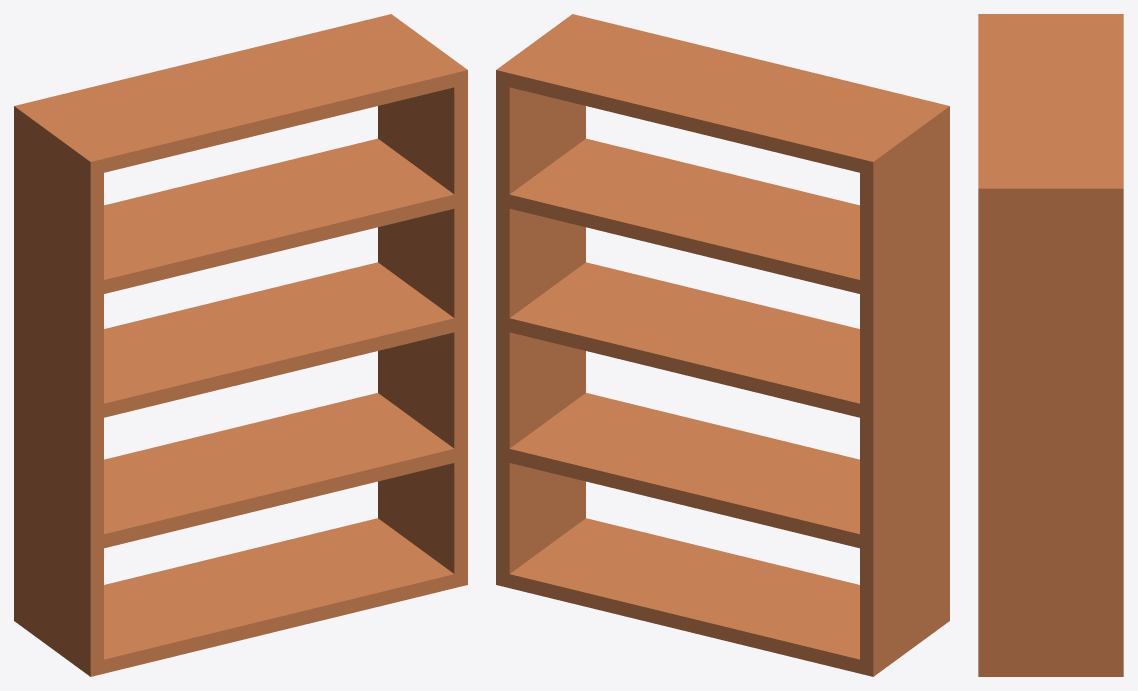
The model's file is SHELF.fbx.
The picture shows the model from 3 angles, left to right: view 1: azimuth 30°, elevation 25°; view 2: azimuth 150°, elevation 25°; view 3: azimuth 270°, elevation 25°; orthographic projection. The views are drawn at different scales.
Visible parts, largest first — view 1: BookStand; view 2: BookStand; view 3: BookStand.
Boxes of the visible parts, x1,y1,x2,y2 form: BookStand: [14, 14, 467, 676]; BookStand: [496, 14, 949, 676]; BookStand: [978, 14, 1123, 676].
Size of the model in its own units: 5.61 by 7.31 by 1.97.
